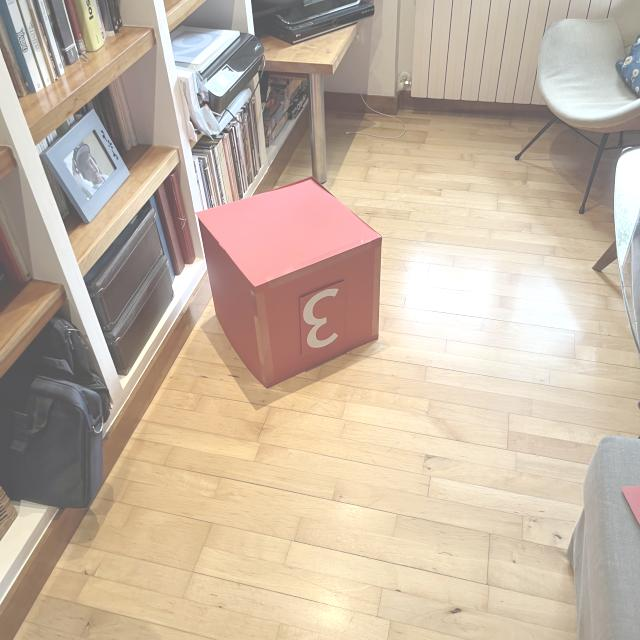box: (192, 174, 385, 388)
